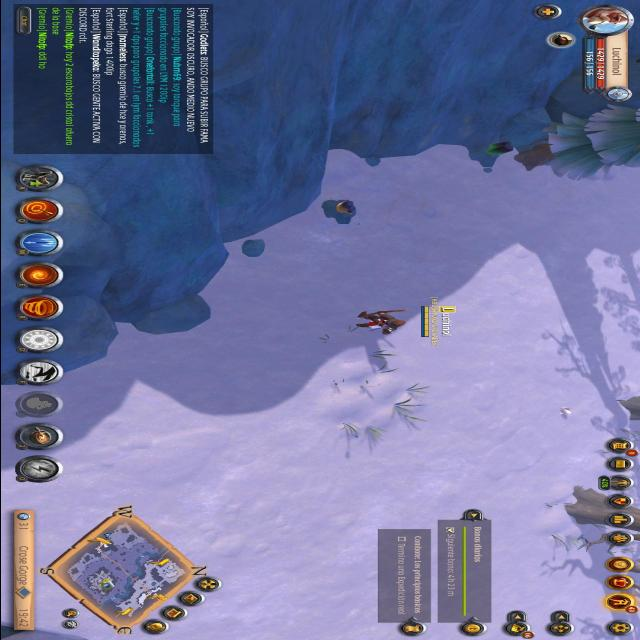piedra_cobre: (314, 192, 366, 226)
